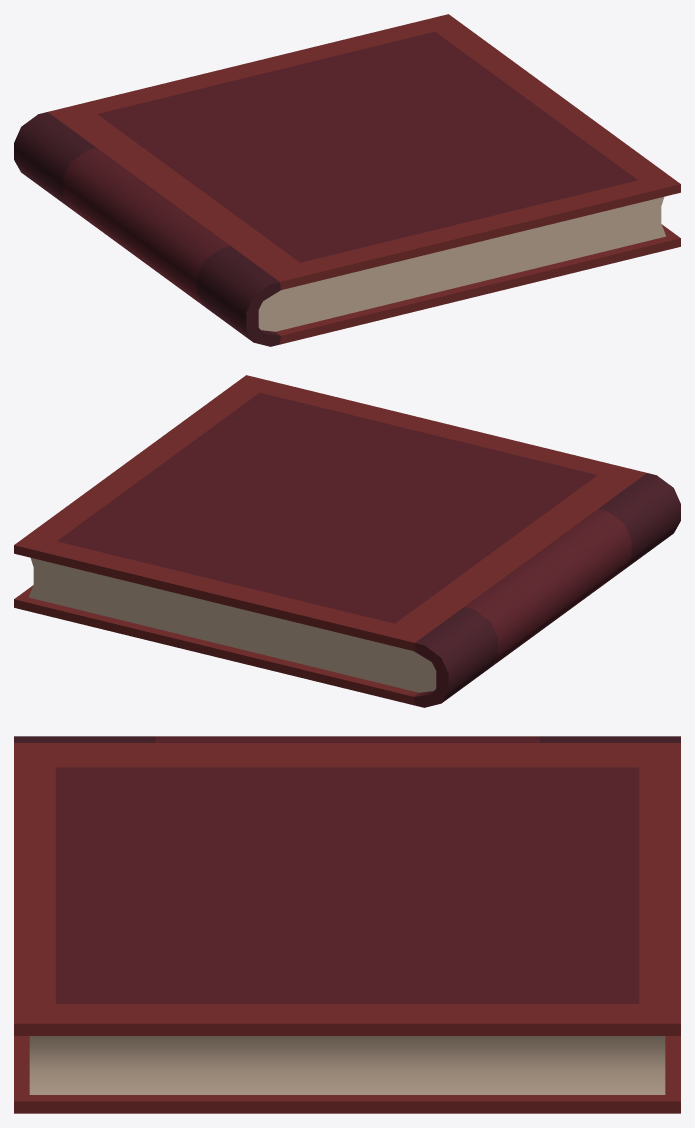
The model's file is Book_06.fbx.
The picture shows the model from 3 angles, top to bottom: view 1: azimuth 30°, elevation 25°; view 2: azimuth 150°, elevation 25°; view 3: azimuth 270°, elevation 25°; orthographic projection. The views are drawn at different scales.
Visible parts, largest first — view 1: Book_06; view 2: Book_06; view 3: Book_06.
Part boxes in pixels (left/top/right/bottom): Book_06: left=14, top=14, right=680, bottom=346; Book_06: left=14, top=375, right=680, bottom=707; Book_06: left=14, top=736, right=680, bottom=1113.
Size of the model in its own units: 0.2383 by 0.0328 by 0.2207.
